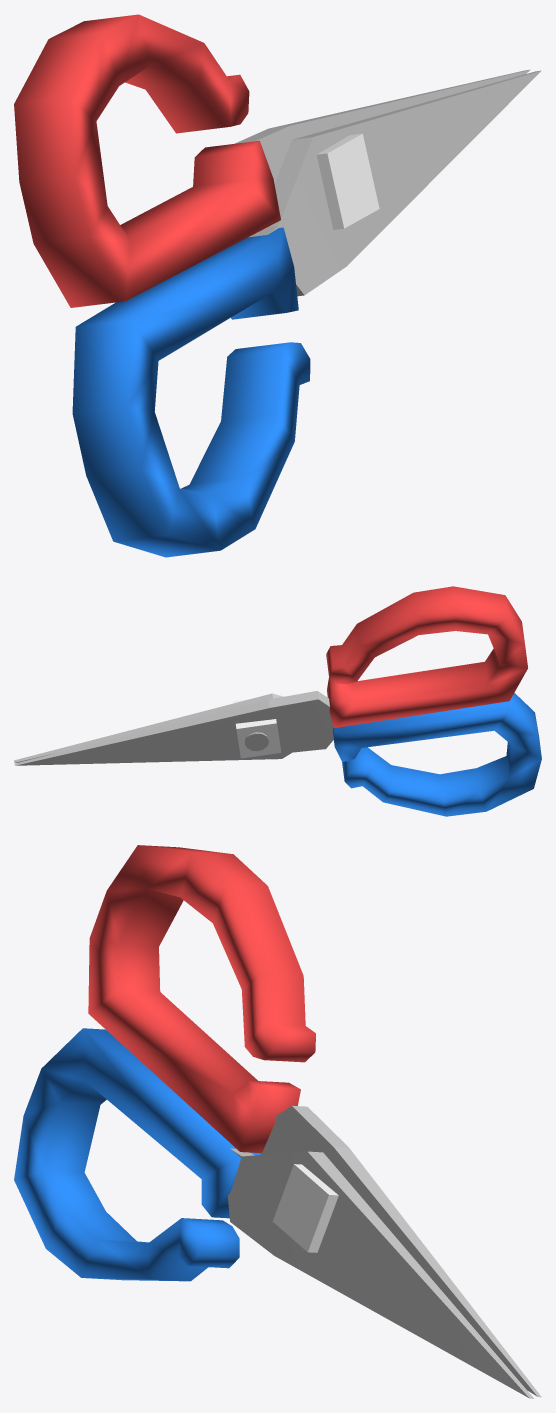
File: scissors.obj
3 renders of one model, top to bottom at view 1: azimuth 30°, elevation 25°; view 2: azimuth 150°, elevation 25°; view 3: azimuth 270°, elevation 25°, orthographic. The views are drawn at different scales.
Parts seen in each view (by area): view 1: handler, handler (1), edge, Cube, edge (1); view 2: handler (1), handler, edge (1), edge, Cube, Cylinder; view 3: handler (1), handler, edge, edge (1), Cube.
Part boxes in pixels (x1,y1,x2,y2): handler: (72, 227, 310, 557); handler (1): (14, 14, 280, 307); edge: (249, 70, 541, 296); Cube: (316, 133, 379, 229); edge (1): (235, 69, 530, 183); handler (1): (326, 586, 527, 727); handler: (333, 693, 541, 816); edge (1): (14, 691, 333, 765); edge: (14, 693, 333, 762); Cube: (233, 699, 281, 758); Cylinder: (244, 732, 268, 751); handler (1): (88, 845, 315, 1153); handler: (14, 1028, 260, 1281); edge: (227, 1148, 533, 1398); edge (1): (260, 1105, 541, 1397); Cube: (272, 1164, 338, 1252).
Bounding box in the file's own units: 1.05 × 0.6515 × 0.7683.
